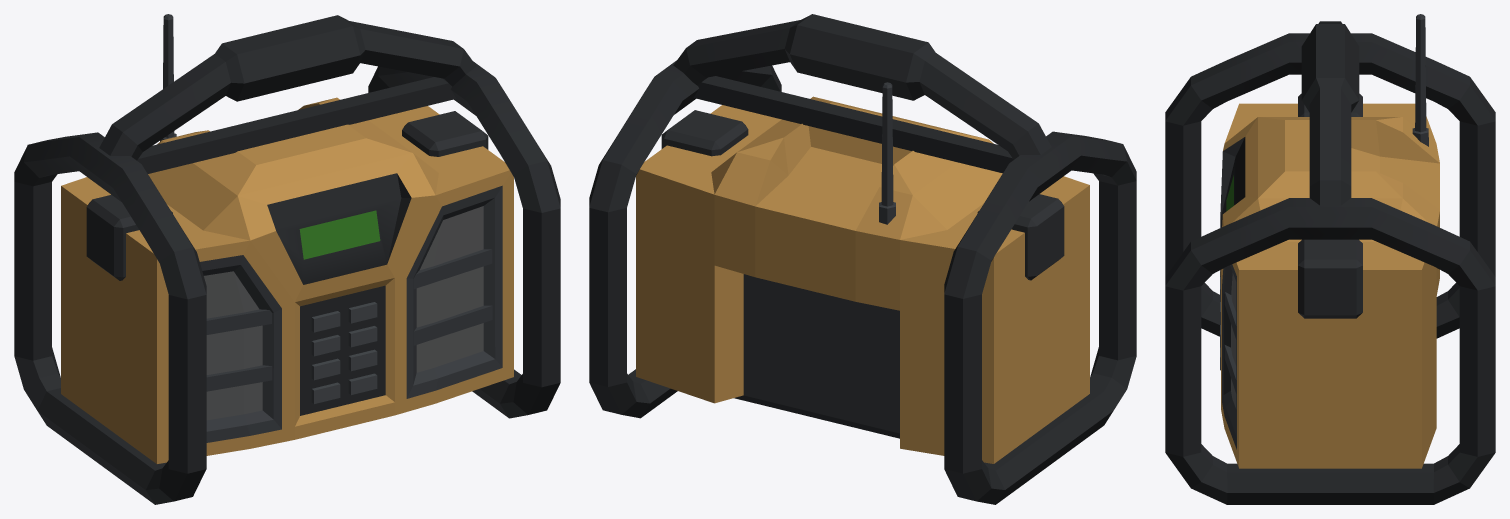
The model's file is SM_Prop_Radio_01.fbx.
3 renders of one model, left to right at view 1: azimuth 30°, elevation 25°; view 2: azimuth 150°, elevation 25°; view 3: azimuth 270°, elevation 25°, orthographic. The views are drawn at different scales.
Visible parts, largest first — view 1: SM_Prop_Radio_01; view 2: SM_Prop_Radio_01; view 3: SM_Prop_Radio_01.
Boxes of the visible parts, x1,y1,x2,y2 form: SM_Prop_Radio_01: (14,14,560,504); SM_Prop_Radio_01: (589,14,1136,504); SM_Prop_Radio_01: (1165,14,1495,504).
Size of the model in its own units: 66.4 by 62.67 by 50.85.
